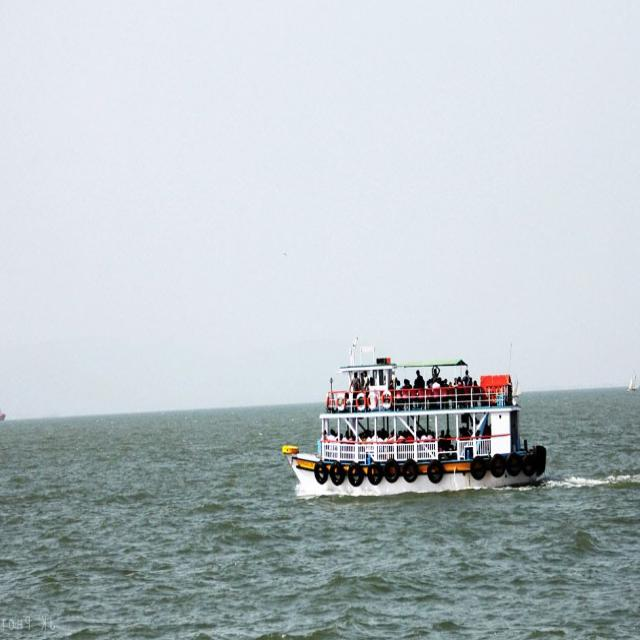houseboat: (280, 301, 557, 496)
